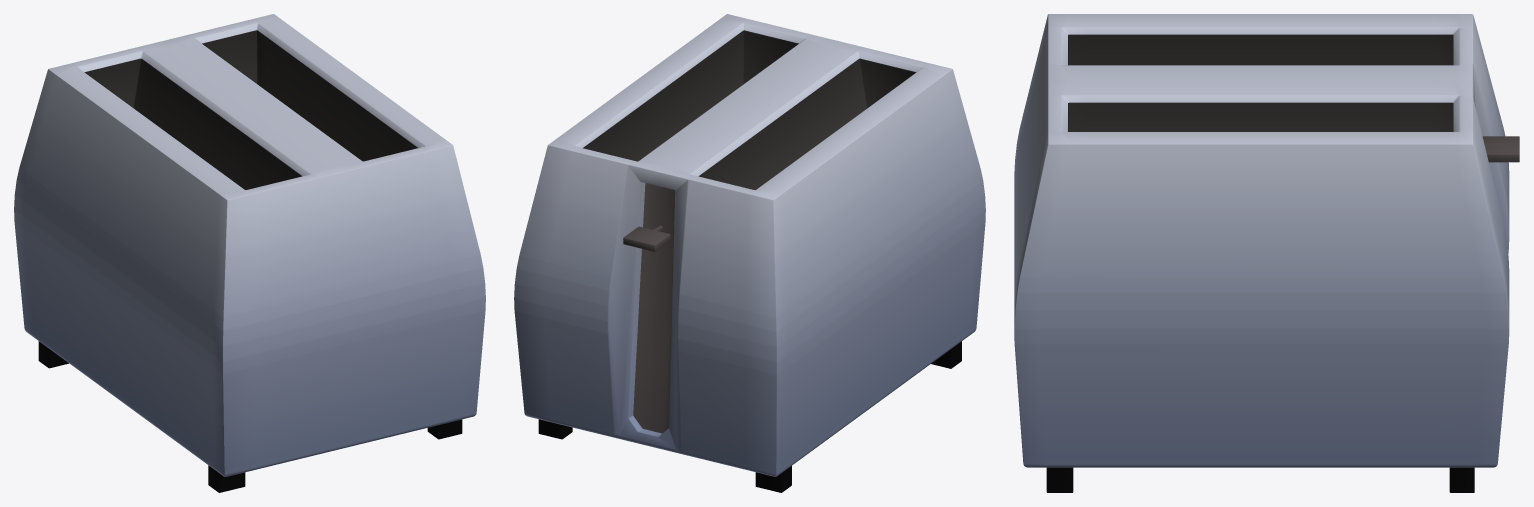
The model's file is Toaster.fbx.
3 renders of one model, left to right at view 1: azimuth 30°, elevation 25°; view 2: azimuth 150°, elevation 25°; view 3: azimuth 270°, elevation 25°, orthographic. The views are drawn at different scales.
Visible parts, largest first — view 1: Taoster; view 2: Taoster; view 3: Taoster.
Boxes of the visible parts, bbox=[...] form: Taoster: bbox=[14, 14, 485, 492]; Taoster: bbox=[514, 14, 985, 492]; Taoster: bbox=[1014, 14, 1519, 492].
Size of the model in its own units: 151 by 160 by 213.
